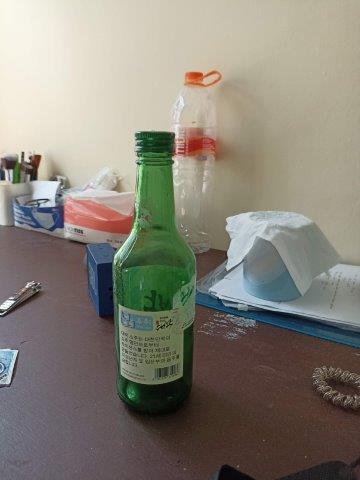botolkaca: (111, 131, 194, 410)
botolplastik: (171, 72, 216, 253)
